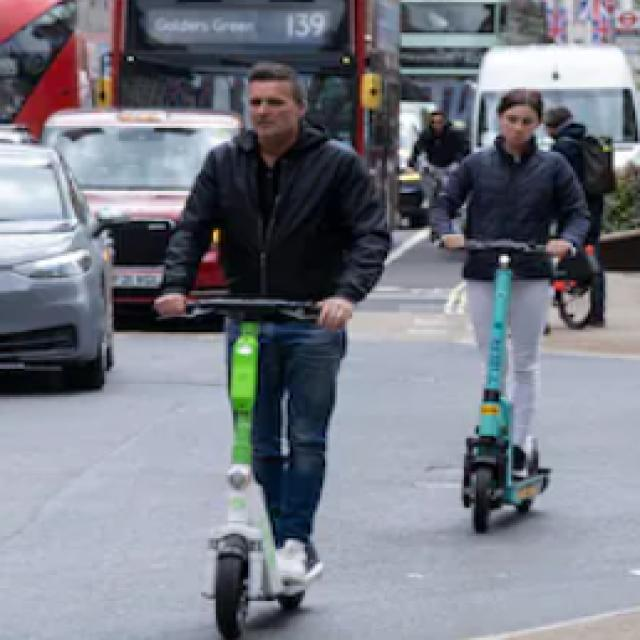non-helmet: (134, 32, 374, 640), (425, 83, 593, 558)
